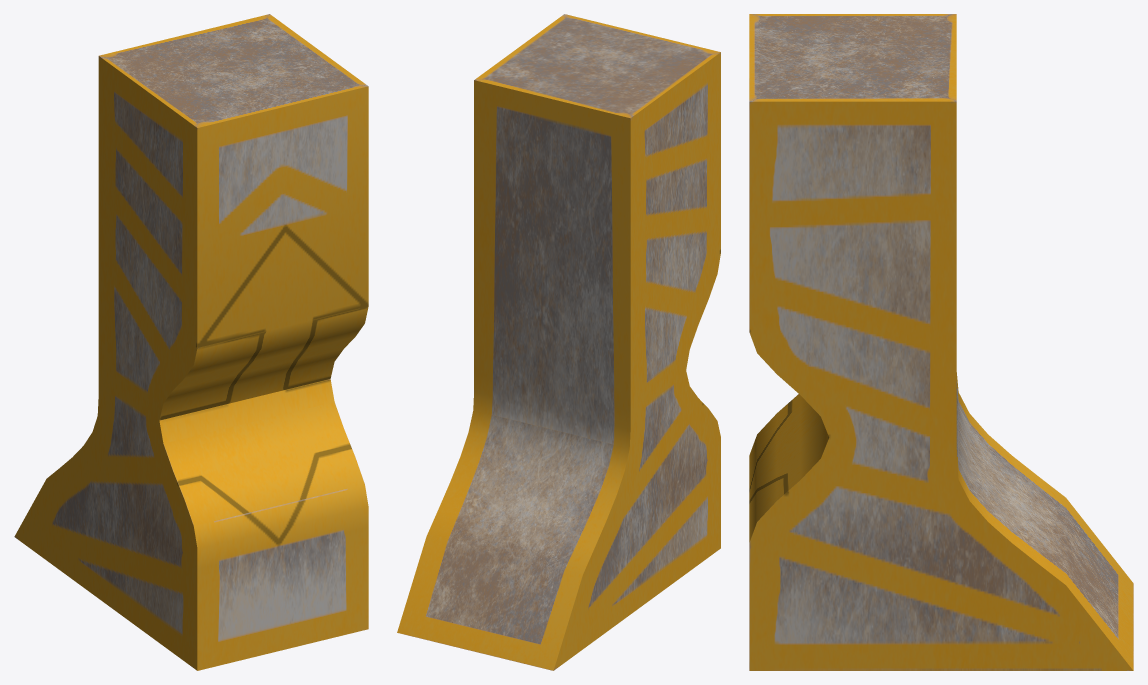
The model's file is CevreBuyukParca.fbx.
3 views of the same model, side by side, from view 1: azimuth 30°, elevation 25°; view 2: azimuth 150°, elevation 25°; view 3: azimuth 270°, elevation 25° (orthographic). The views are drawn at different scales.
Visible parts, largest first — view 1: Cube; view 2: Cube; view 3: Cube.
Boxes of the visible parts, left/top/right/bottom form: Cube: left=14, top=14, right=368, bottom=670; Cube: left=397, top=14, right=720, bottom=670; Cube: left=749, top=14, right=1133, bottom=670.
Size of the model in its own units: 73.51 by 223 by 136.
